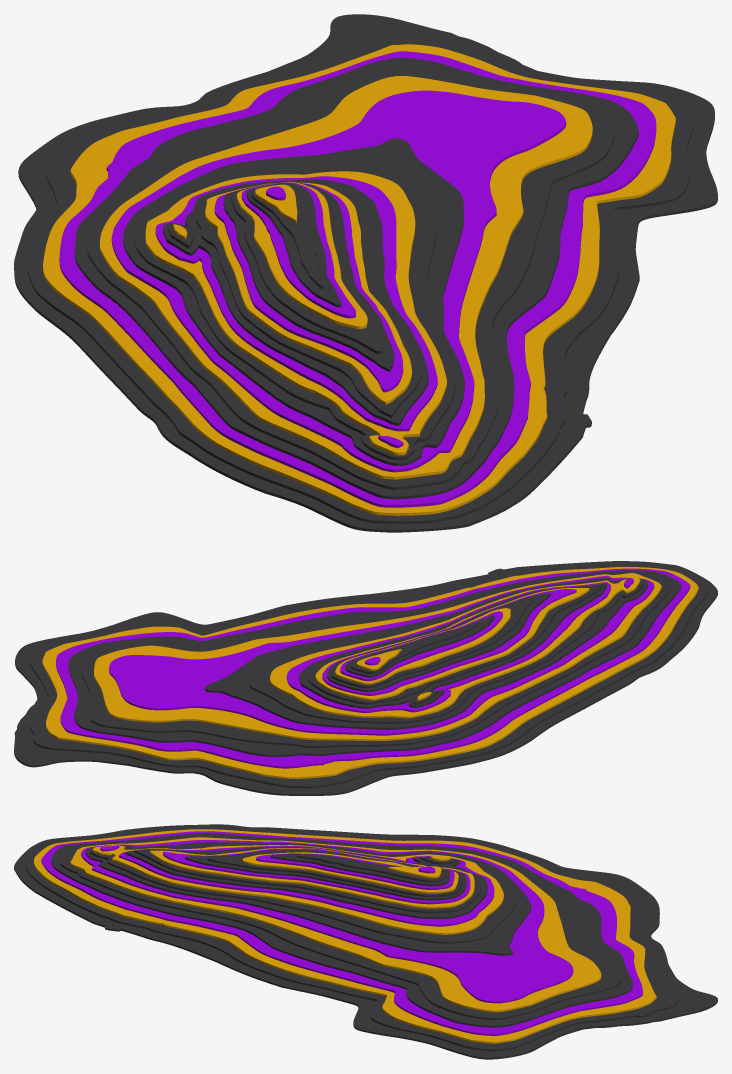
Rendered from card.glb.
3 views of the same model, one above another, from view 1: azimuth 30°, elevation 25°; view 2: azimuth 150°, elevation 25°; view 3: azimuth 270°, elevation 25° (orthographic). The views are drawn at different scales.
Parts seen in each view (by area): view 1: Contours; view 2: Contours; view 3: Contours.
Boxes of the visible parts, bbox=[...] form: Contours: bbox=[14, 14, 717, 532]; Contours: bbox=[14, 561, 717, 795]; Contours: bbox=[14, 824, 717, 1059].
Bounding box in the file's own units: 205 × 16.8 × 261.
